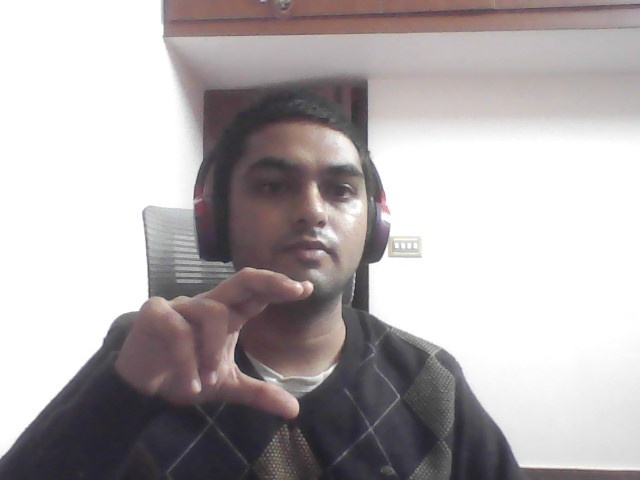No: (110, 251, 331, 444)
